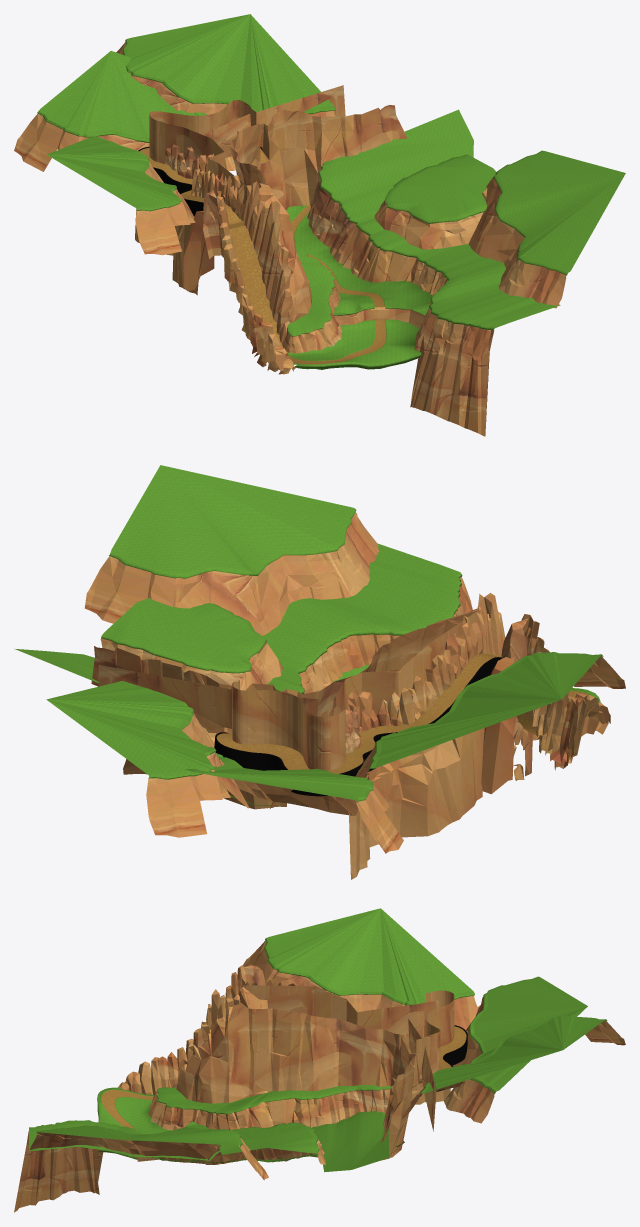
The model's file is jungle environment main terrain 0.1.fbx.
The picture shows the model from 3 angles, top to bottom: view 1: azimuth 30°, elevation 25°; view 2: azimuth 150°, elevation 25°; view 3: azimuth 270°, elevation 25°; orthographic projection. The views are drawn at different scales.
Parts seen in each view (by area): view 1: Environment_Terrain_01; view 2: Environment_Terrain_01; view 3: Environment_Terrain_01.
Boxes of the visible parts, box(x1,y1,x2,y2) form: Environment_Terrain_01: box(14, 14, 625, 436); Environment_Terrain_01: box(14, 465, 625, 879); Environment_Terrain_01: box(14, 908, 625, 1212).
Size of the model in its own units: 107587 by 46501 by 135298.
